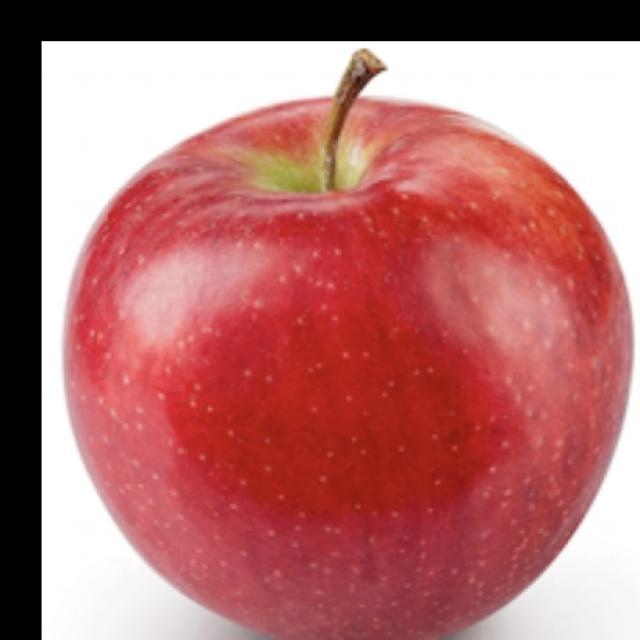Fresh Apple: (56, 98, 640, 640)
